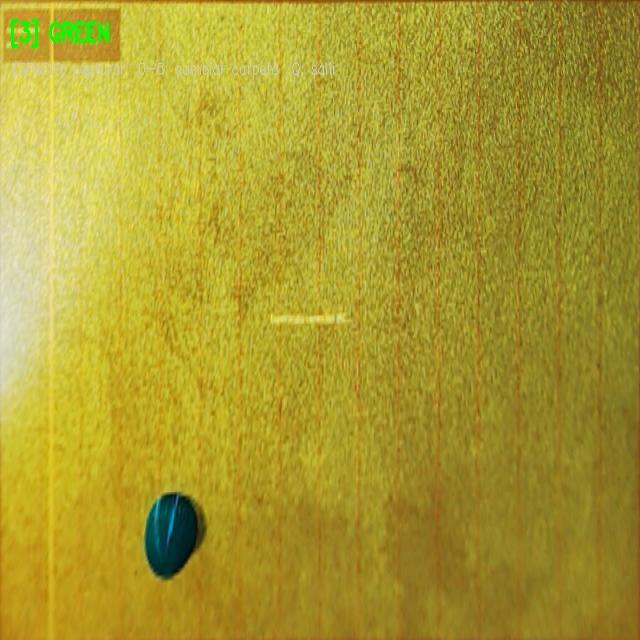green: (145, 502, 200, 576)
